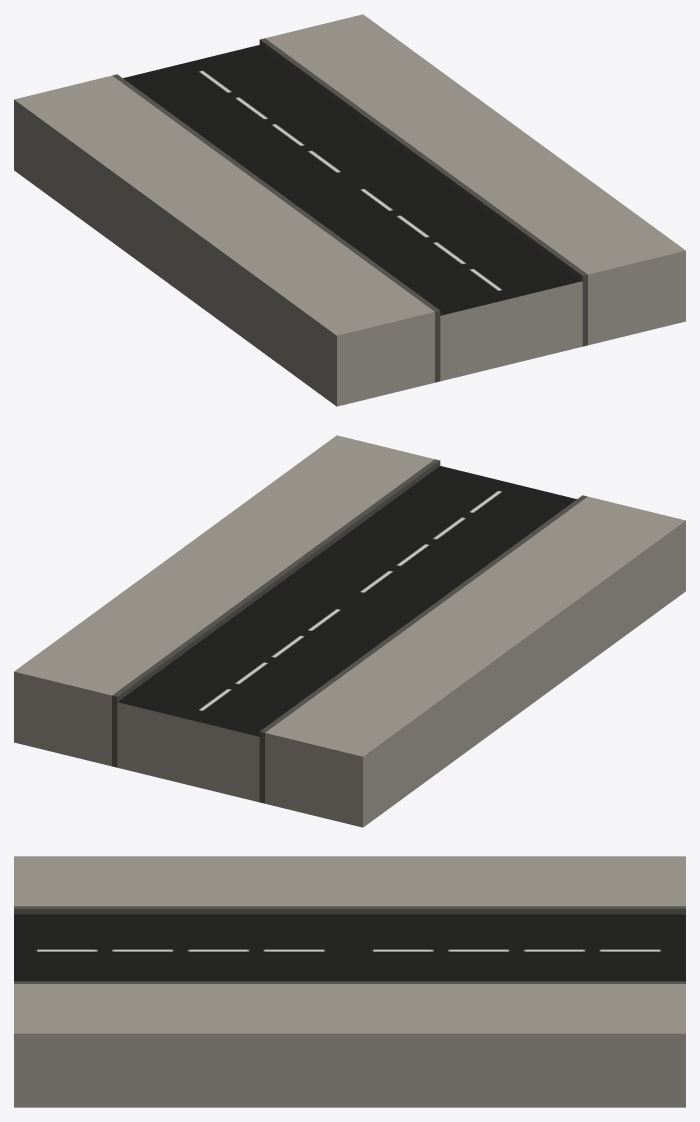
The model's file is Road_Road10.fbx.
3 renders of one model, top to bottom at view 1: azimuth 30°, elevation 25°; view 2: azimuth 150°, elevation 25°; view 3: azimuth 270°, elevation 25°, orthographic. The views are drawn at different scales.
Parts seen in each view (by area): view 1: Road_Road10; view 2: Road_Road10; view 3: Road_Road10.
Boxes of the visible parts, x1,y1,x2,y2 form: Road_Road10: (14, 14, 685, 406); Road_Road10: (14, 435, 685, 827); Road_Road10: (14, 856, 685, 1107).
Size of the model in its own units: 1696 by 329 by 2717.
